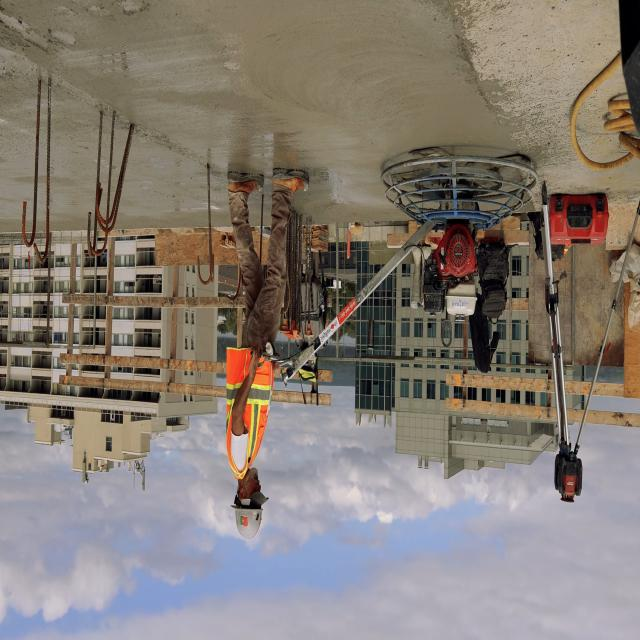Boots: (269, 168, 311, 198), (225, 168, 263, 196)
Helmet: (234, 504, 265, 539)
Vest: (225, 352, 271, 480)
